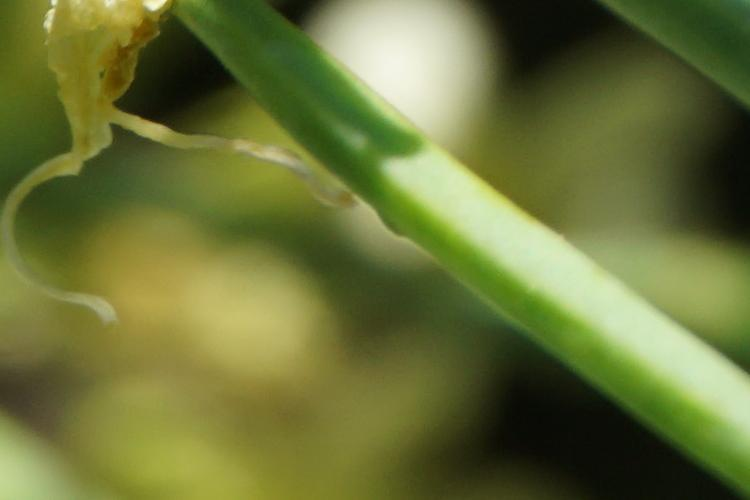white: (37, 6, 184, 185)
